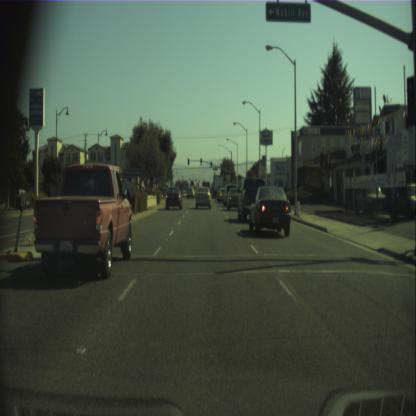Green: (210, 162, 212, 167), (232, 172, 233, 180)
GreenLeft: (200, 158, 202, 166)
off: (406, 78, 415, 124), (187, 158, 189, 164)
